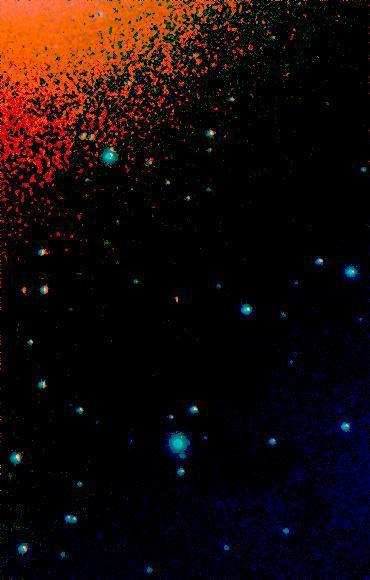star: (162, 286, 192, 316)
